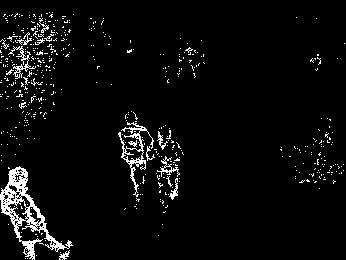person: (3, 164, 73, 259), (113, 108, 156, 207), (155, 119, 189, 214)
